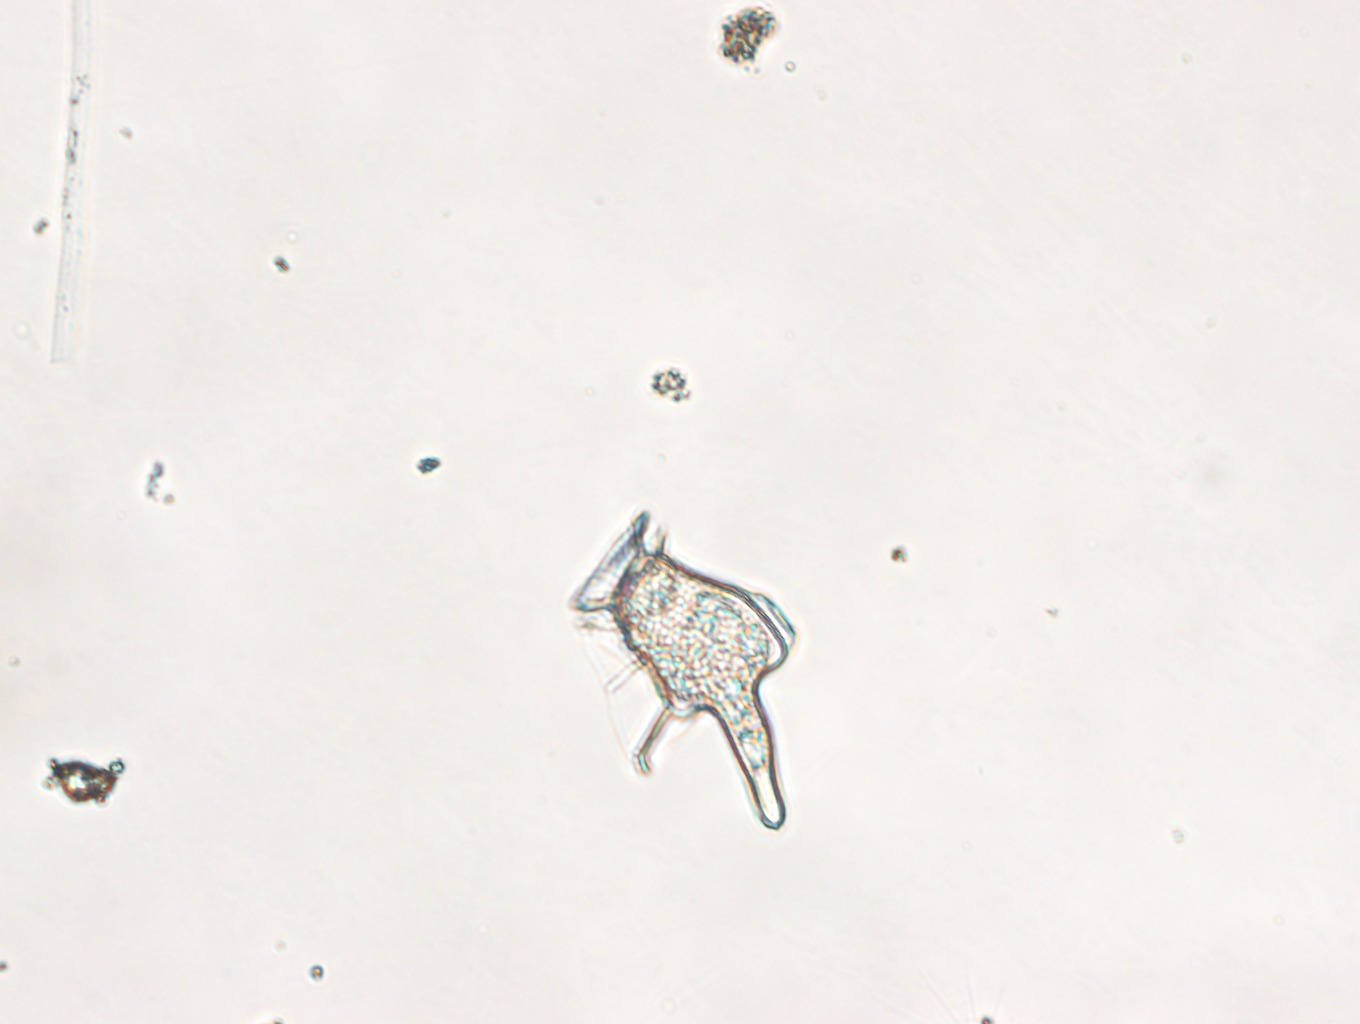dinophysis caudata: (569, 510, 796, 831)
